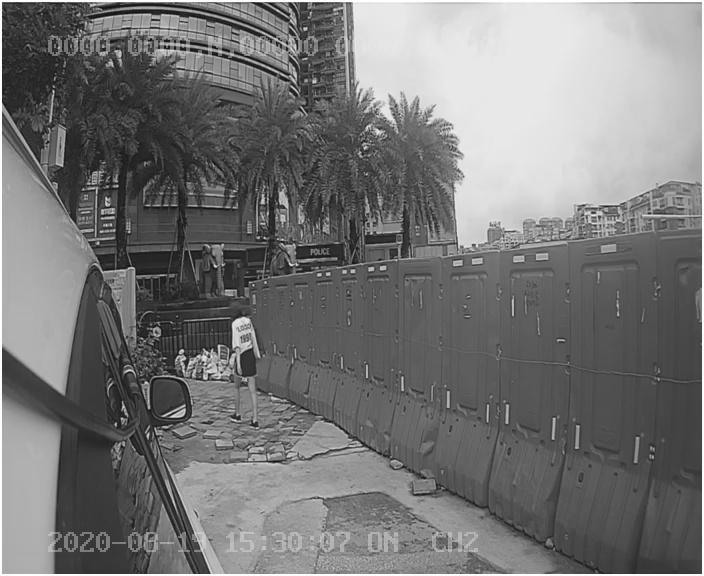person: (212, 300, 281, 432)
